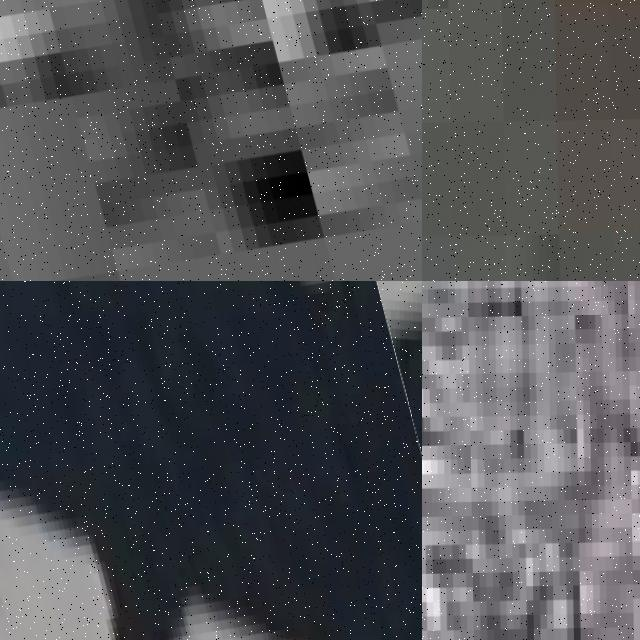0: (0, 0, 422, 281)
drone: (0, 281, 422, 640)
